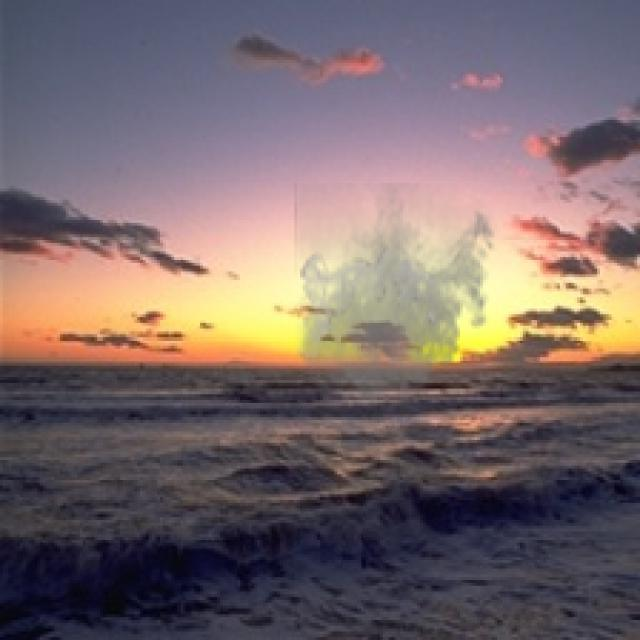smoke: (294, 183, 500, 420)
